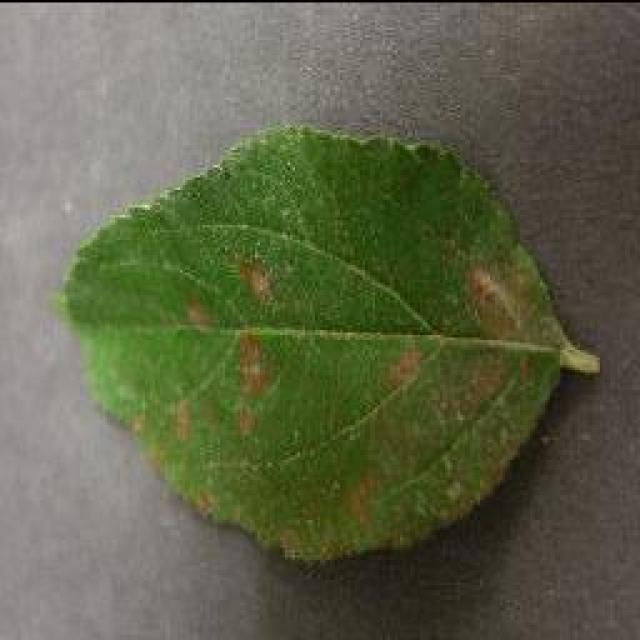apple healthy: (58, 120, 600, 565)
